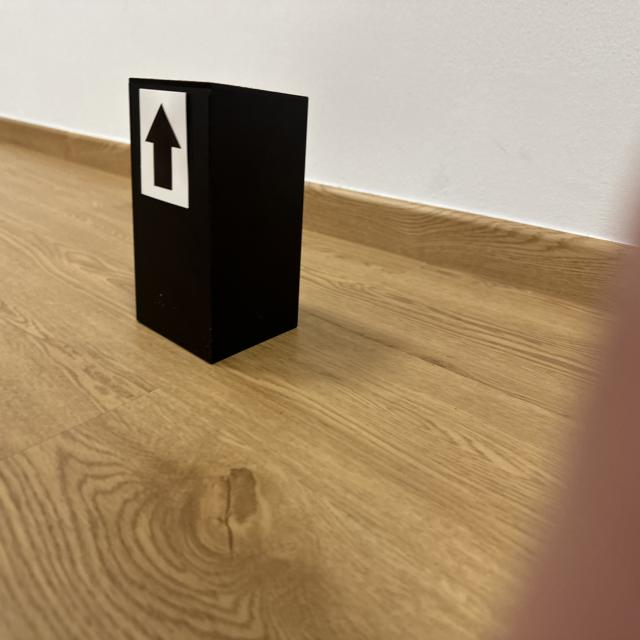UP: (146, 102, 180, 192)
